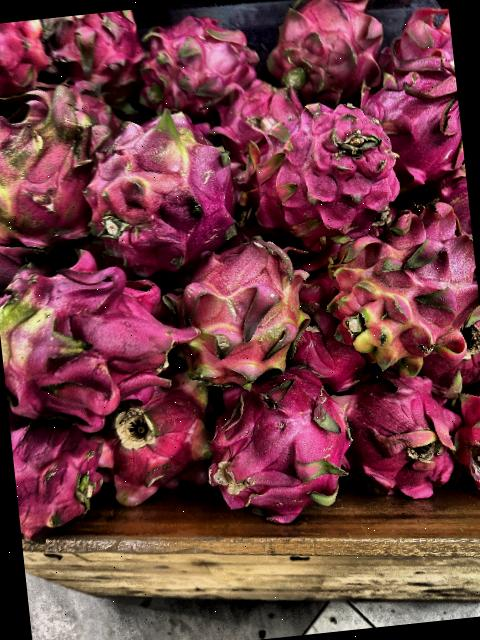buah-naga-belum-matang: (0, 241, 190, 443), (153, 235, 324, 398), (90, 102, 240, 268), (333, 211, 480, 379), (0, 84, 105, 258)
buah-naga-matang: (200, 366, 364, 540), (241, 100, 406, 235), (342, 364, 466, 513), (350, 52, 466, 192), (135, 6, 264, 116), (92, 392, 214, 502), (10, 406, 112, 535), (261, 0, 382, 105), (38, 9, 151, 100), (0, 19, 55, 114)
